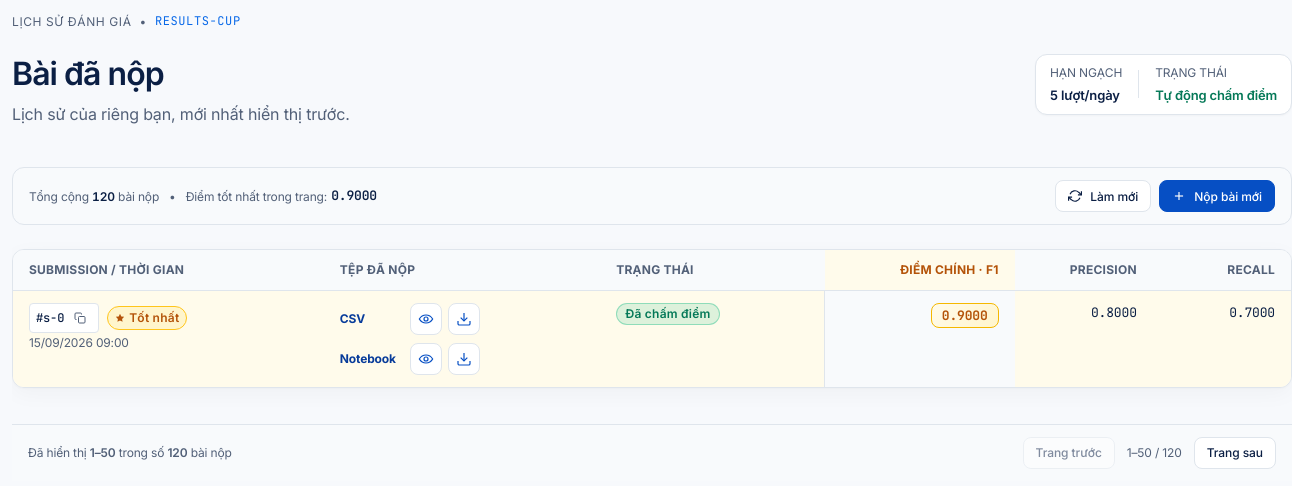
Test: sang trang hai gửi offset=50 và cập nhật dải đang hiển thị
Check: the text "#s-0" is shown, box [29,303,99,333]
Check: the message reads "Đã hiển thị 1–50 trong số 120 bài nộp", box [28,443,232,463]
What coordinates should you click on to do the following:
click the button "Trang sau"
I would click on:
 (1235, 453)
Its box is [1194,437,1276,469].
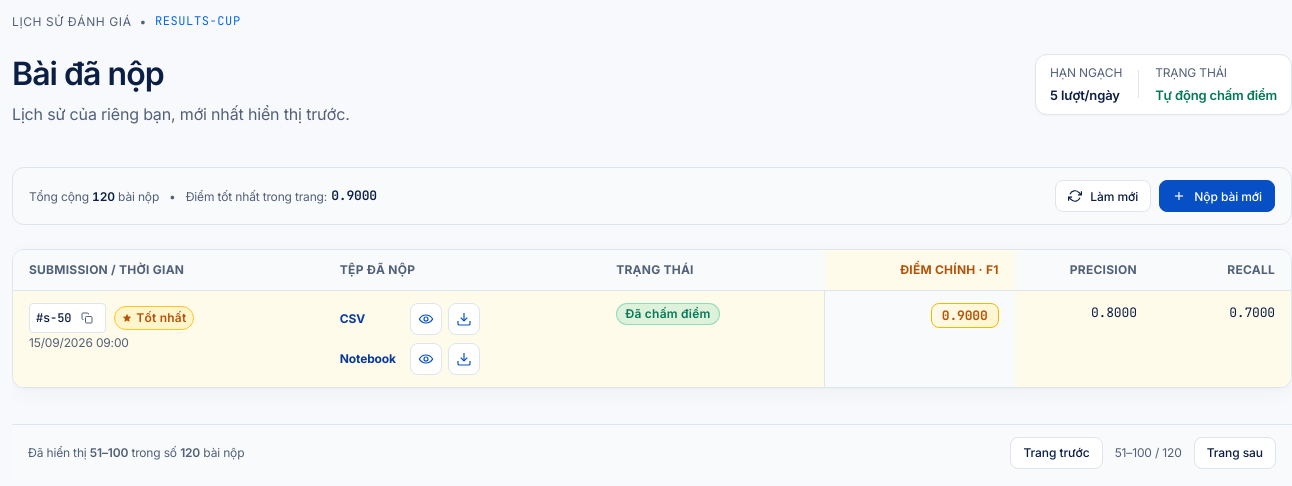
Check: the text "#s-50" is shown, box [29,303,106,333]
Check: the message reads "Đã hiển thị 51–100 trong số 120 bài nộp", box [28,443,244,463]
